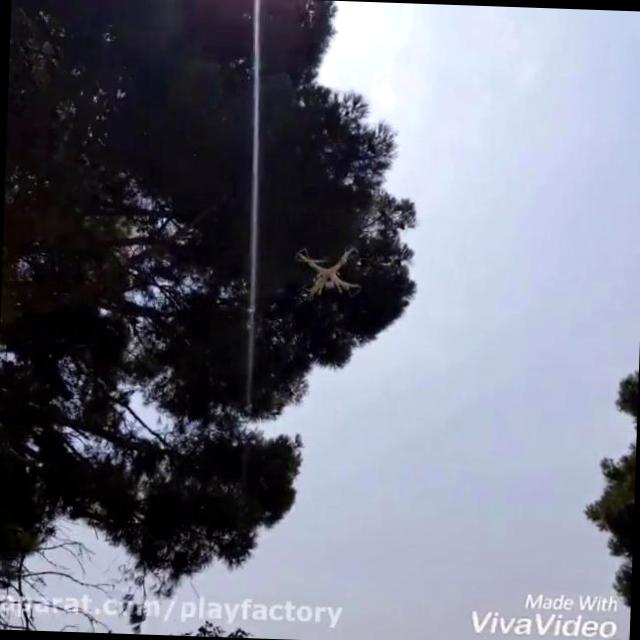drone: (291, 240, 367, 305)
